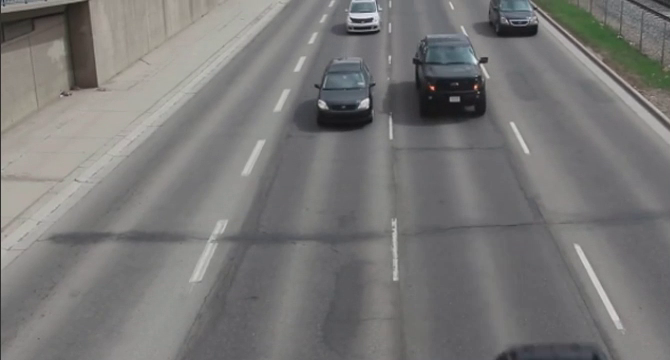car: (413, 30, 487, 121), (316, 52, 373, 130), (489, 1, 544, 35), (343, 1, 384, 31)
